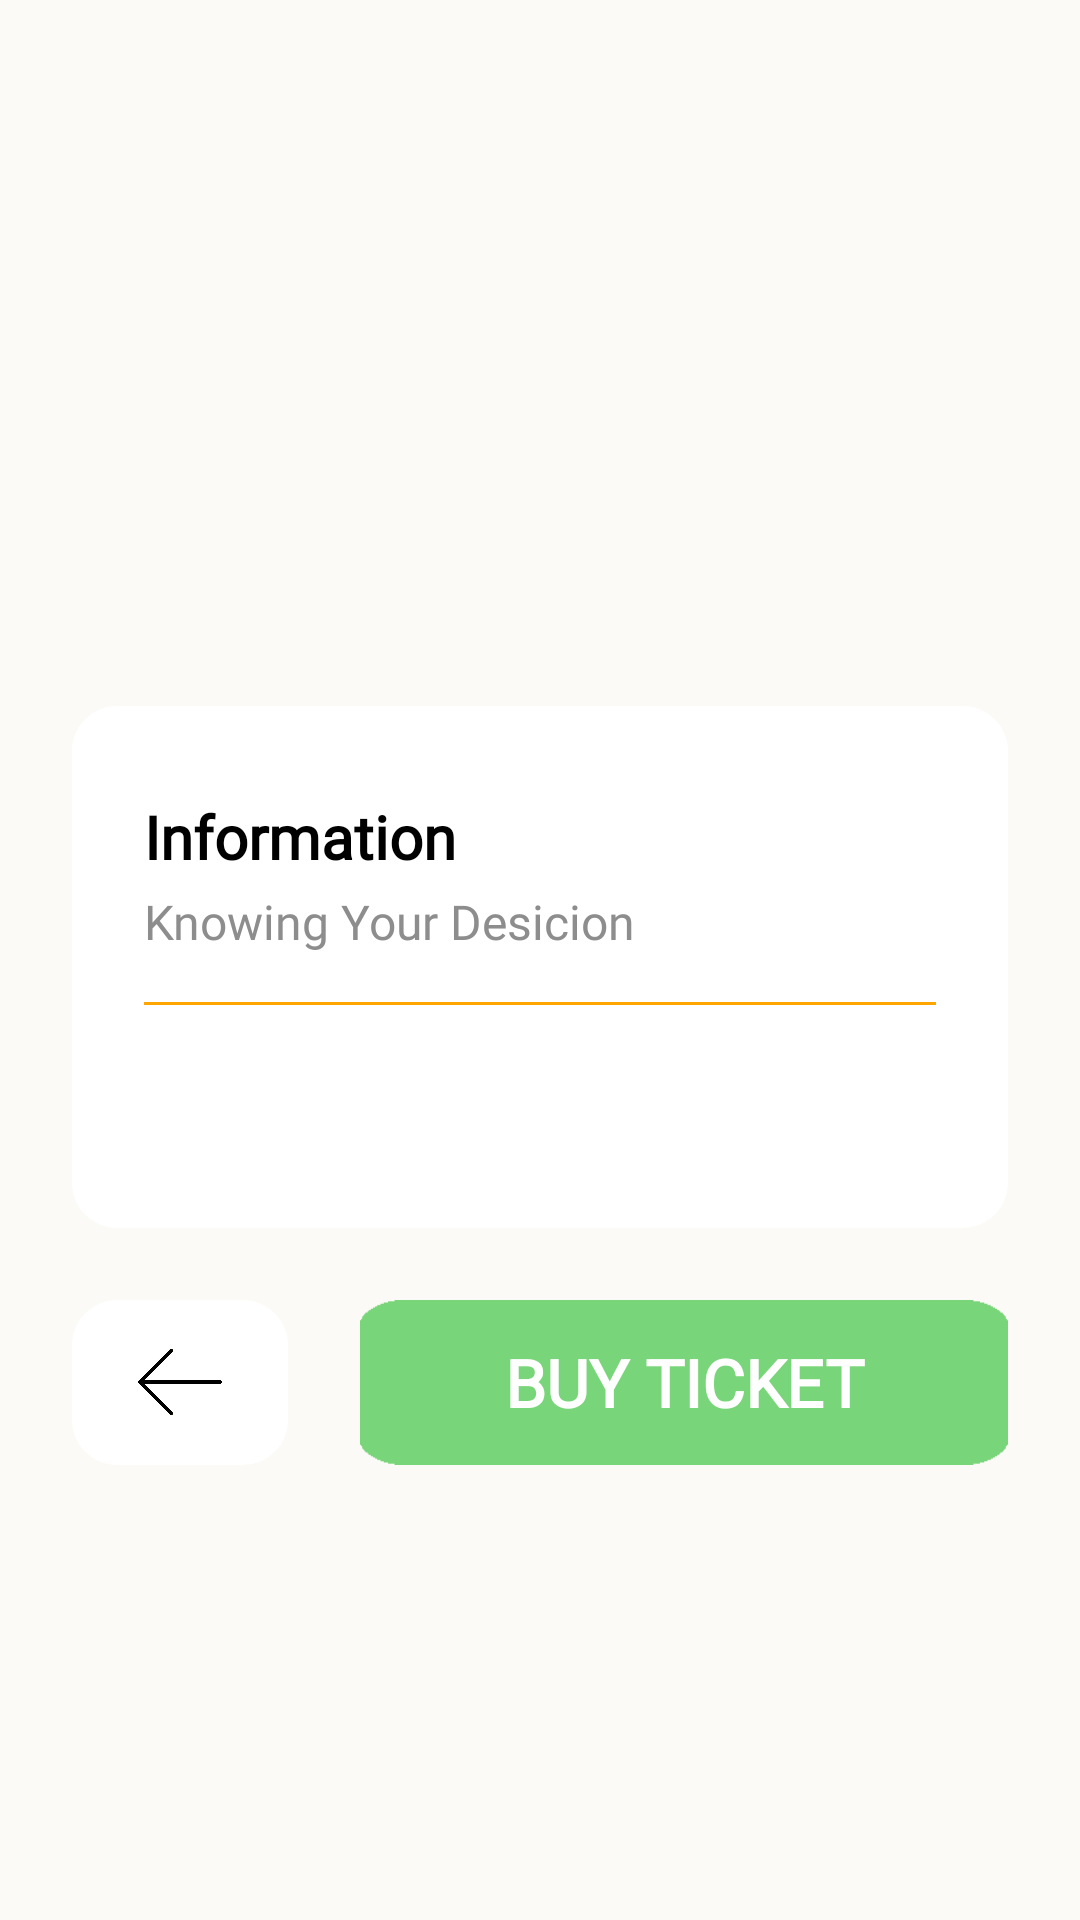

Screen size 1080w x 1920h. Icon name, then its center in pixels as (x=x, y=y):
buttonback: (x=180, y=1382)
